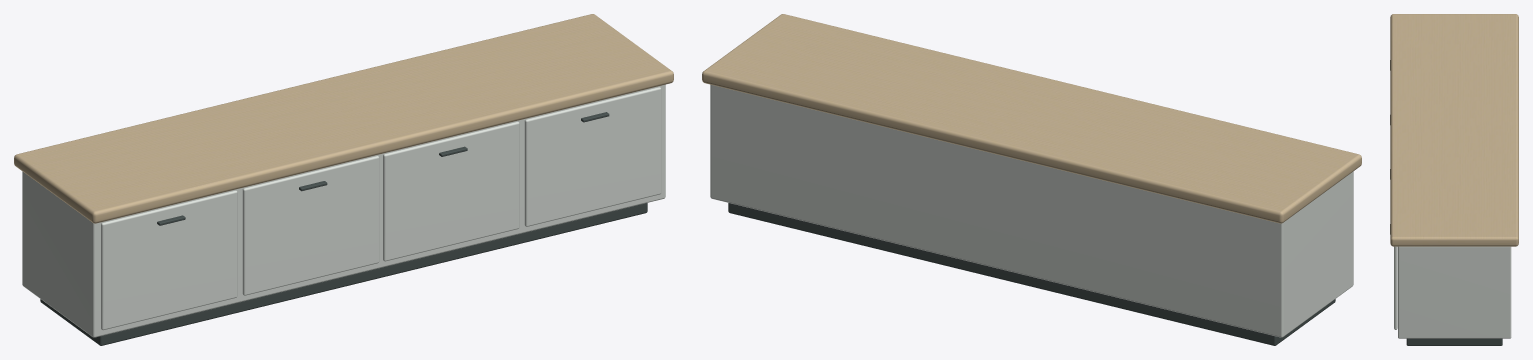
File: counter-v1.glb
The picture shows the model from 3 angles, left to right: view 1: azimuth 30°, elevation 25°; view 2: azimuth 150°, elevation 25°; view 3: azimuth 270°, elevation 25°; orthographic projection. The views are drawn at different scales.
Parts seen in each view (by area): view 1: Recessed pantry plinth; view 2: Recessed pantry plinth; view 3: Recessed pantry plinth.
Part boxes in pixels (x1,y1,x2,y2): Recessed pantry plinth: (14, 14, 673, 345); Recessed pantry plinth: (702, 14, 1361, 345); Recessed pantry plinth: (1390, 14, 1518, 345).
Bounding box in the file's own units: 3.98 × 0.95 × 0.9625.
3 materials, 1 textured.
